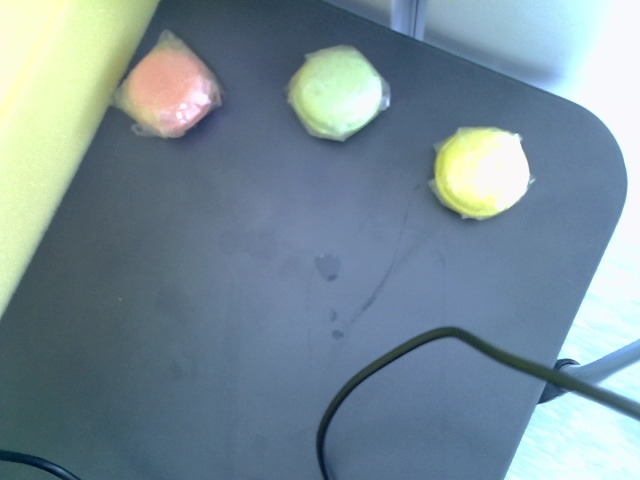씨앗: (288, 46, 385, 141), (437, 130, 532, 216), (124, 49, 214, 137)
